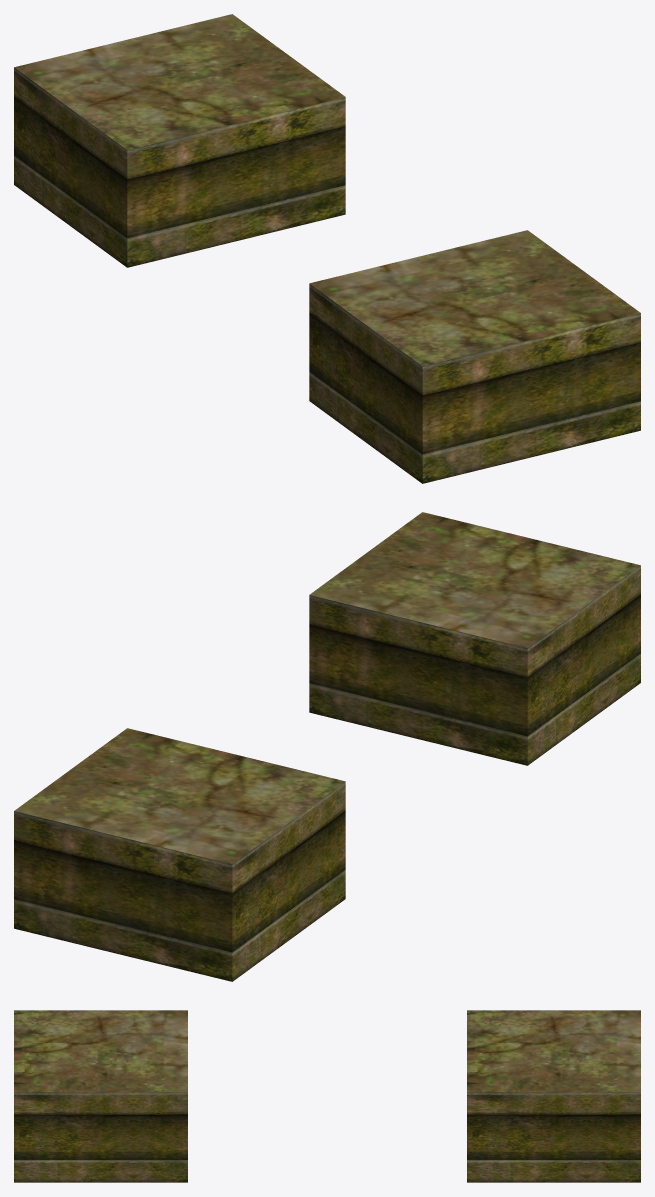
Rendered from OVERHILL_A_01_LINE437.fbx.
3 views of the same model, one above another, from view 1: azimuth 30°, elevation 25°; view 2: azimuth 150°, elevation 25°; view 3: azimuth 270°, elevation 25° (orthographic). The views are drawn at different scales.
Parts seen in each view (by area): view 1: OVERHILL_A_01_LINE437; view 2: OVERHILL_A_01_LINE437; view 3: OVERHILL_A_01_LINE437.
Part boxes in pixels (box(x1,y1,x2,y2)): OVERHILL_A_01_LINE437: box(14, 14, 640, 483); OVERHILL_A_01_LINE437: box(14, 512, 640, 981); OVERHILL_A_01_LINE437: box(14, 1010, 640, 1182).
Bounding box in the file's own units: 14482 × 7450 × 46908.
Materials: 2 (2 with a texture image).
